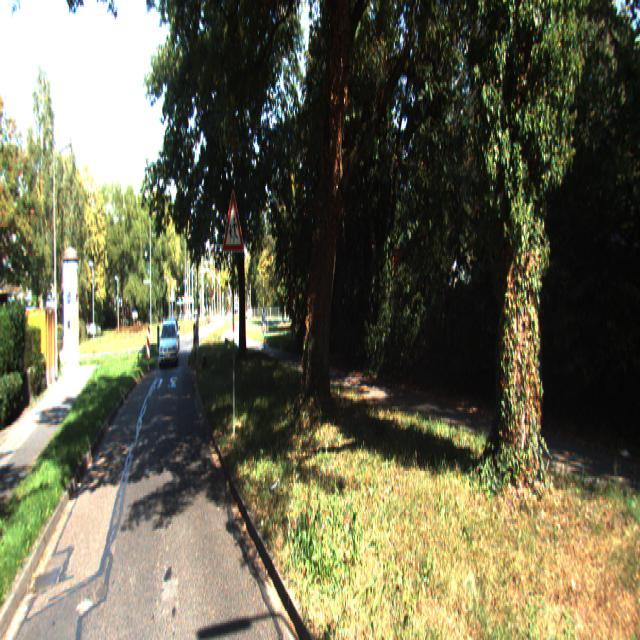Car: (158, 321, 176, 370)
